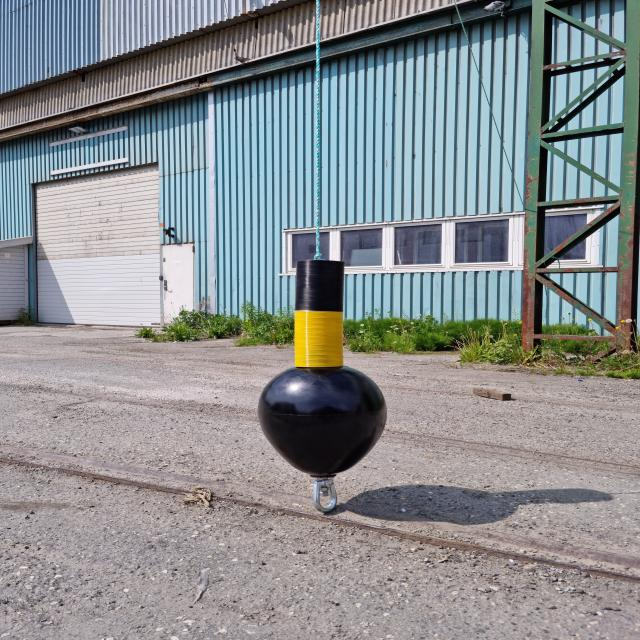east: (256, 259, 388, 475)
